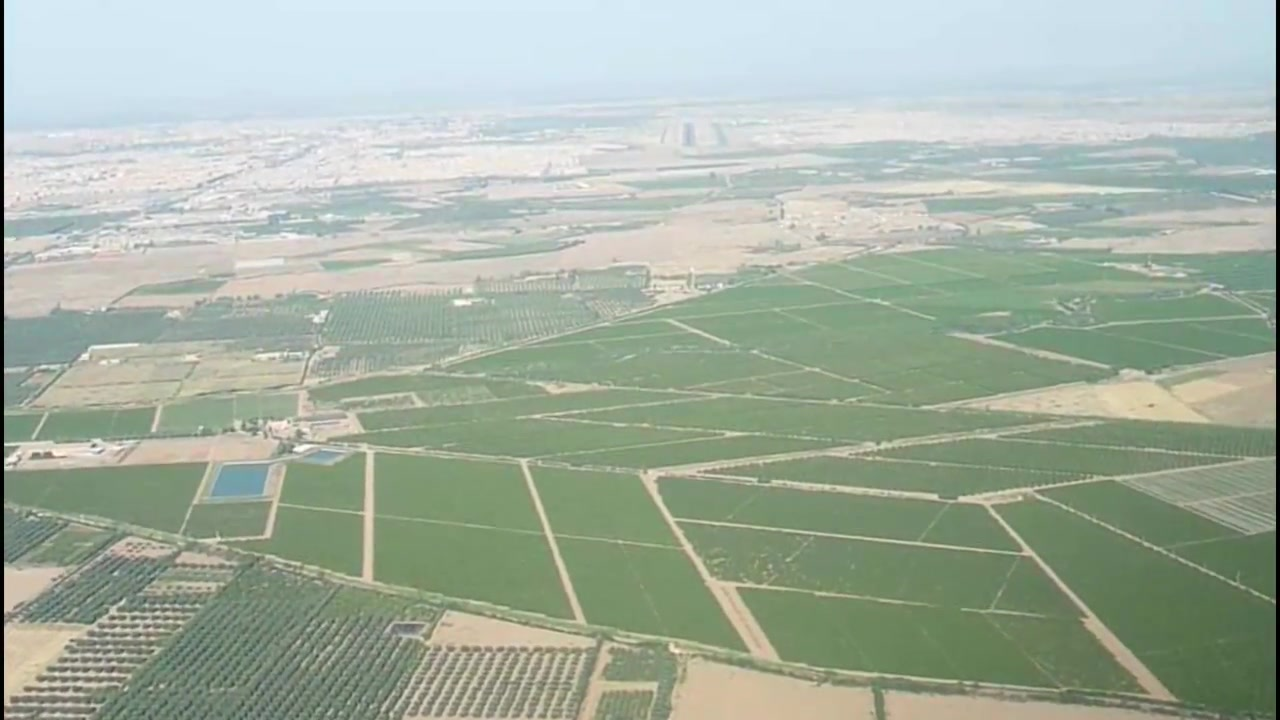runway: (679, 121, 697, 151)
